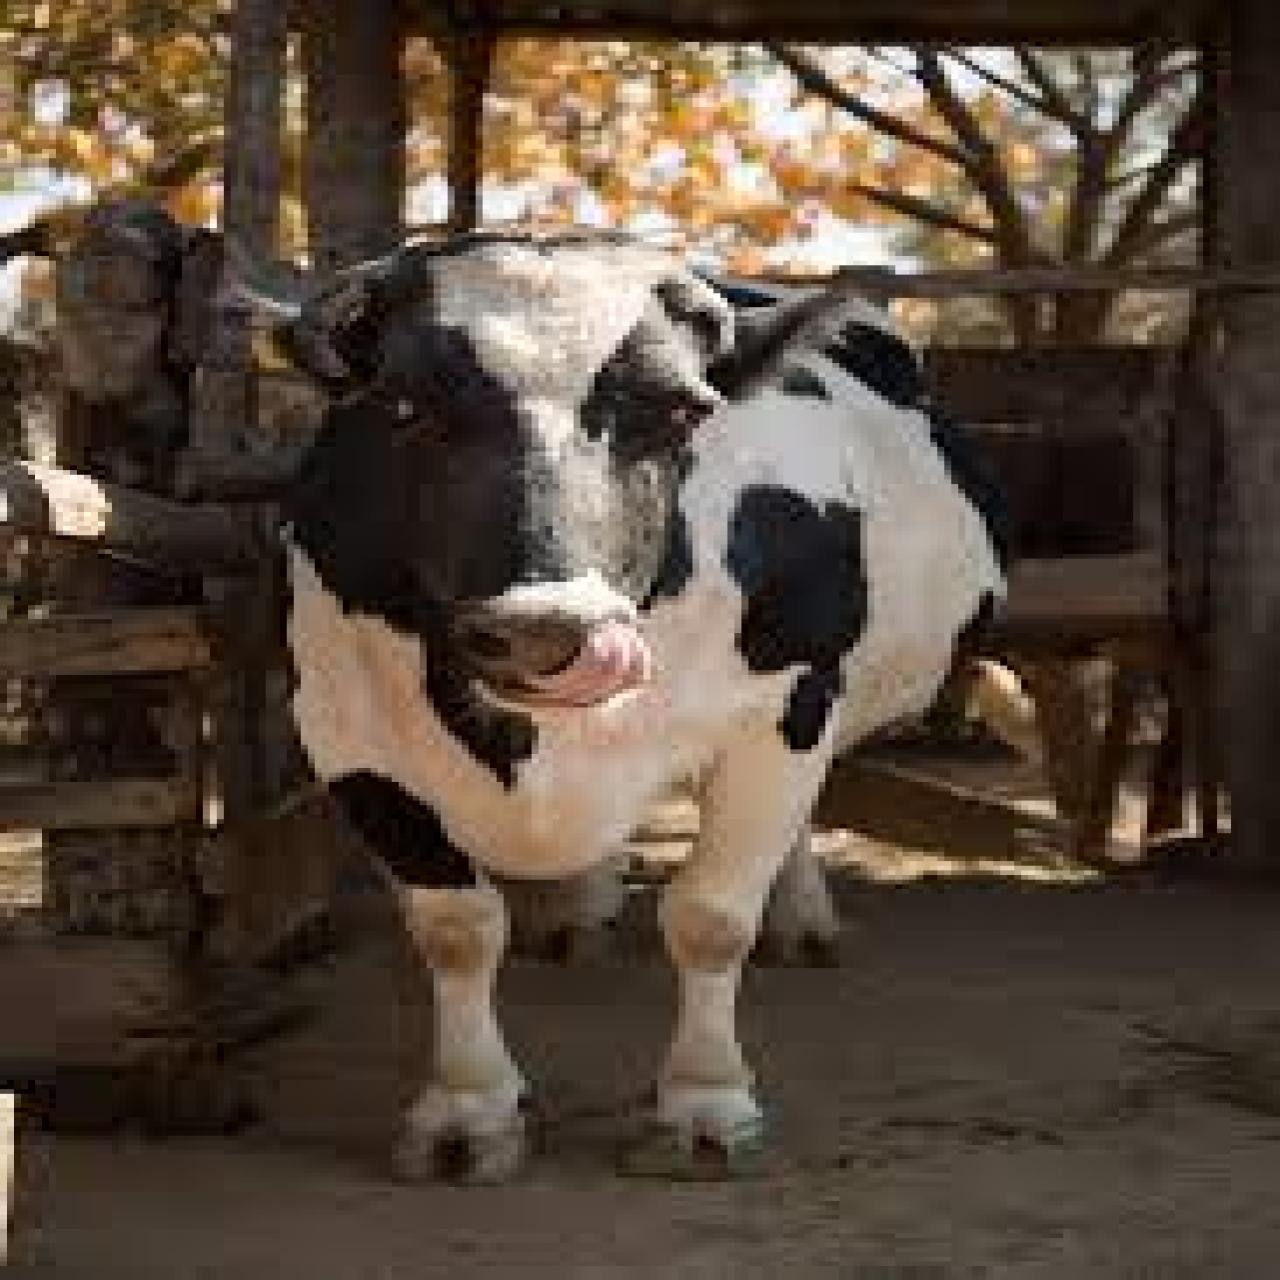cow: (217, 229, 1000, 1182)
